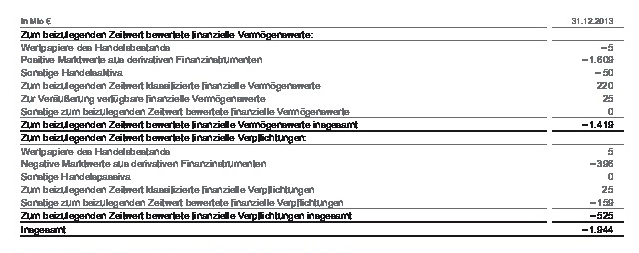table: (0, 0, 639, 253)
